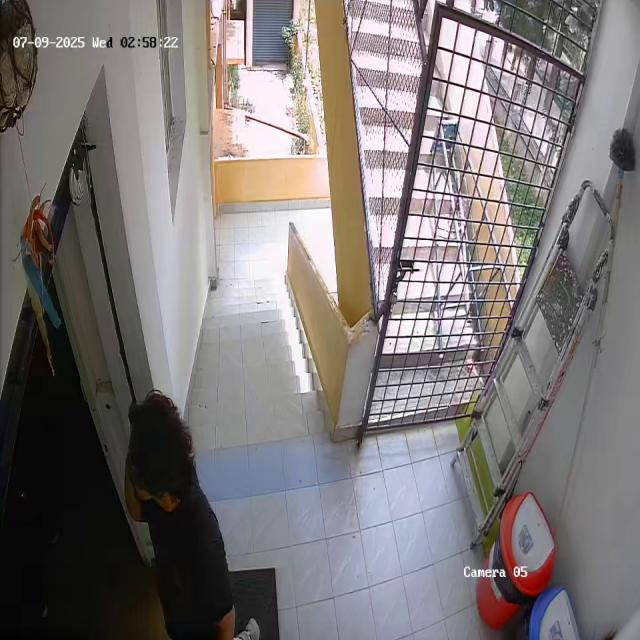person: (112, 391, 261, 640)
